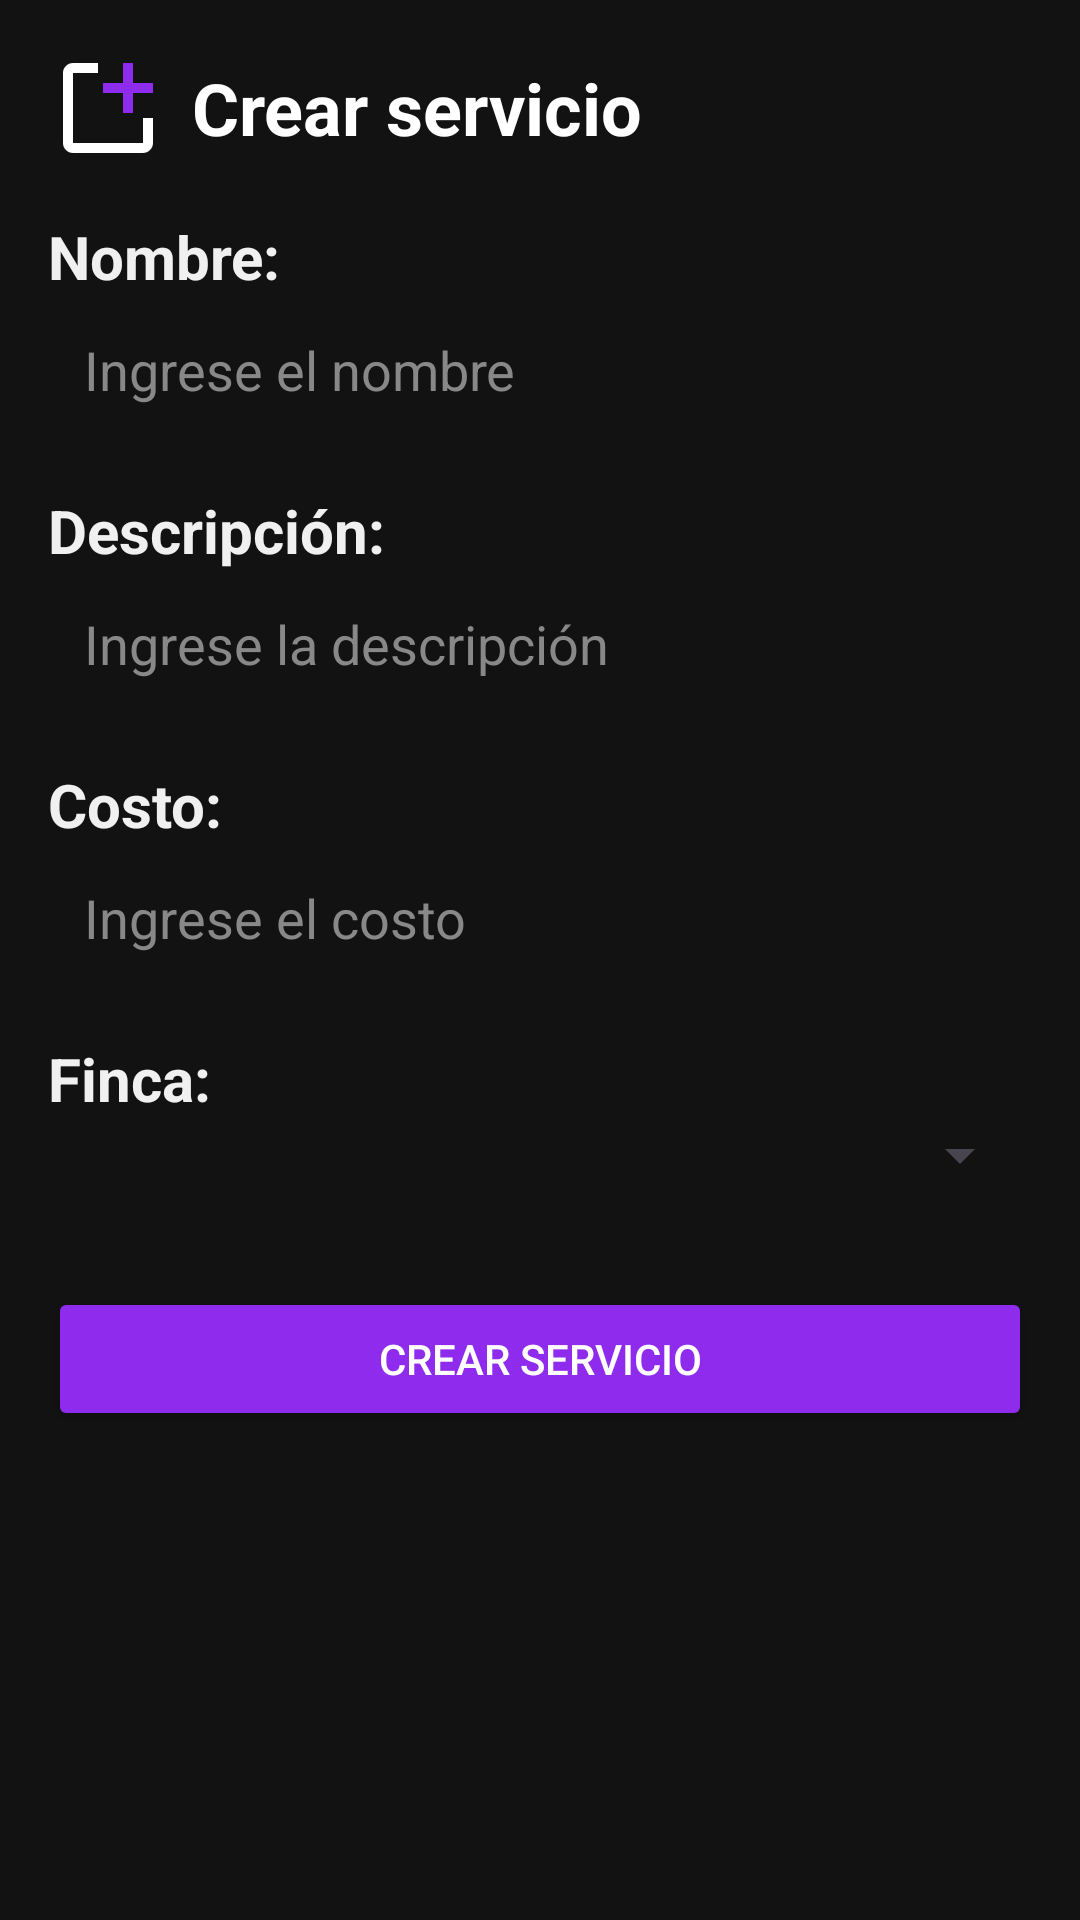

Locate icon controls on the screen. Image size 1080px×1920px, boxes as (x1, y1, x2, y2).
Icono de Beneficio: (63, 63, 153, 153)
